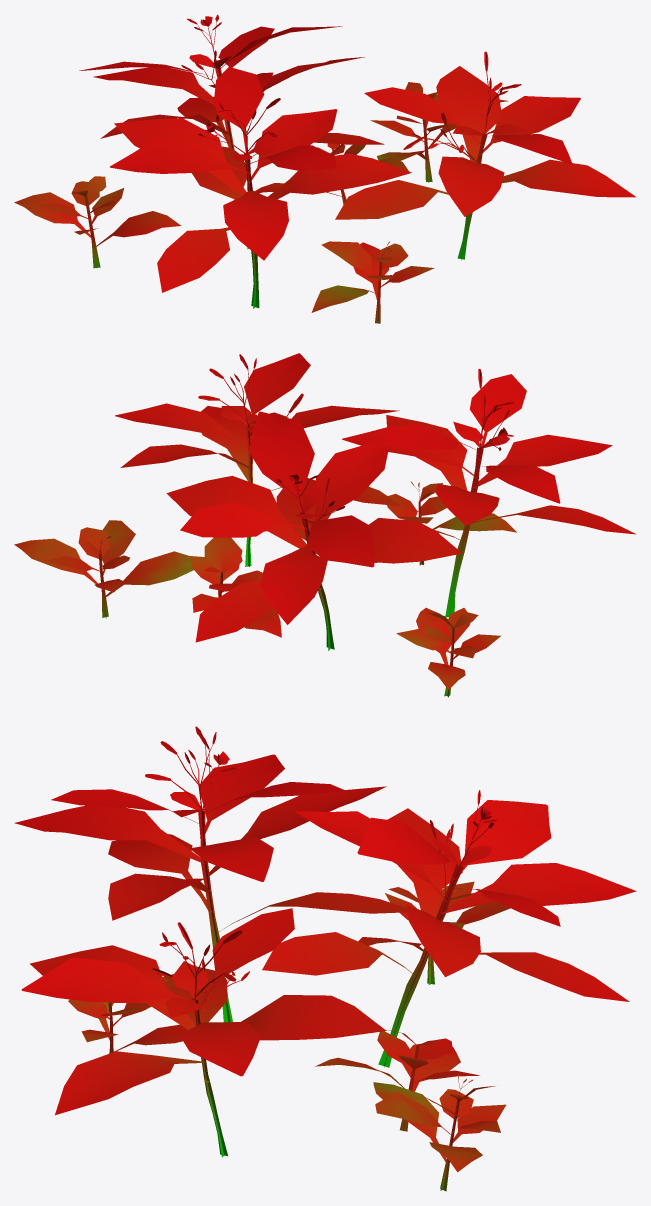
File: Small Balsam_LOD2_Var8_xefmcgrqx.fbx
3 renders of one model, top to bottom at view 1: azimuth 30°, elevation 25°; view 2: azimuth 150°, elevation 25°; view 3: azimuth 270°, elevation 25°, orthographic. The views are drawn at different scales.
Visible parts, largest first — view 1: _i7dp_Var8_LOD2; view 2: _i7dp_Var8_LOD2; view 3: _i7dp_Var8_LOD2.
Boxes of the visible parts, <box> form: _i7dp_Var8_LOD2: <box>14,14,636,323</box>; _i7dp_Var8_LOD2: <box>14,353,636,697</box>; _i7dp_Var8_LOD2: <box>14,726,636,1191</box>.
Size of the model in its own units: 68.15 by 31 by 60.47.
